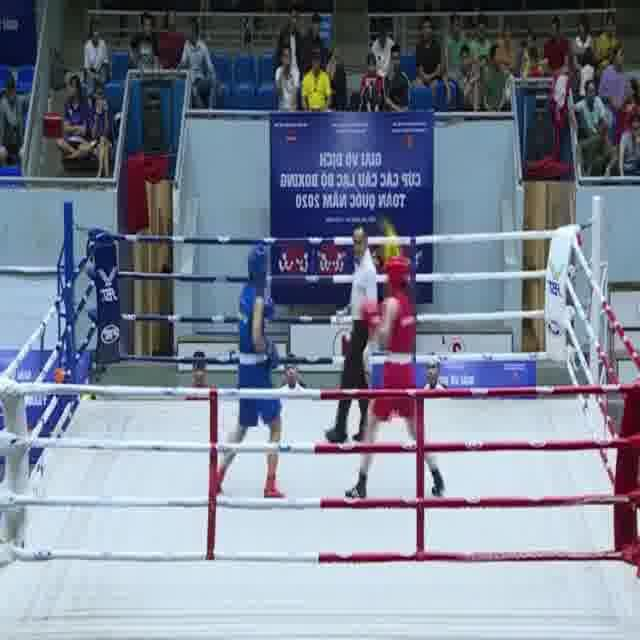blue-player: (209, 242, 290, 505)
red-player: (343, 252, 447, 502)
referee: (323, 224, 382, 450)
